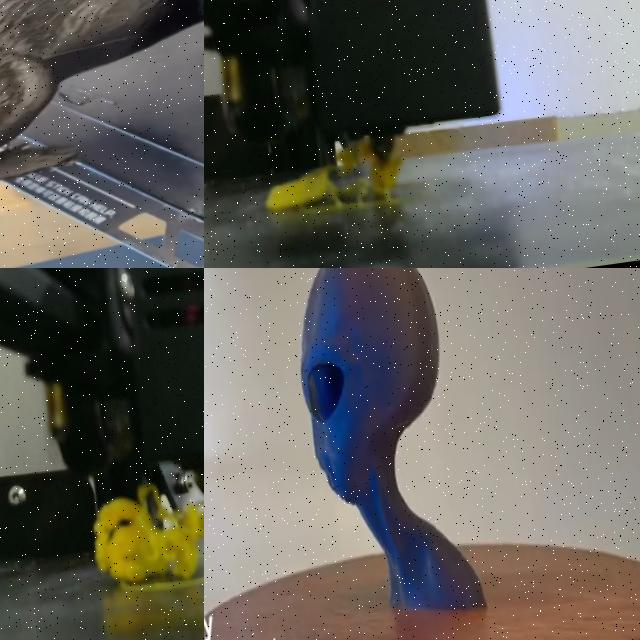spaghetti: (94, 485, 204, 584), (266, 137, 402, 211)
